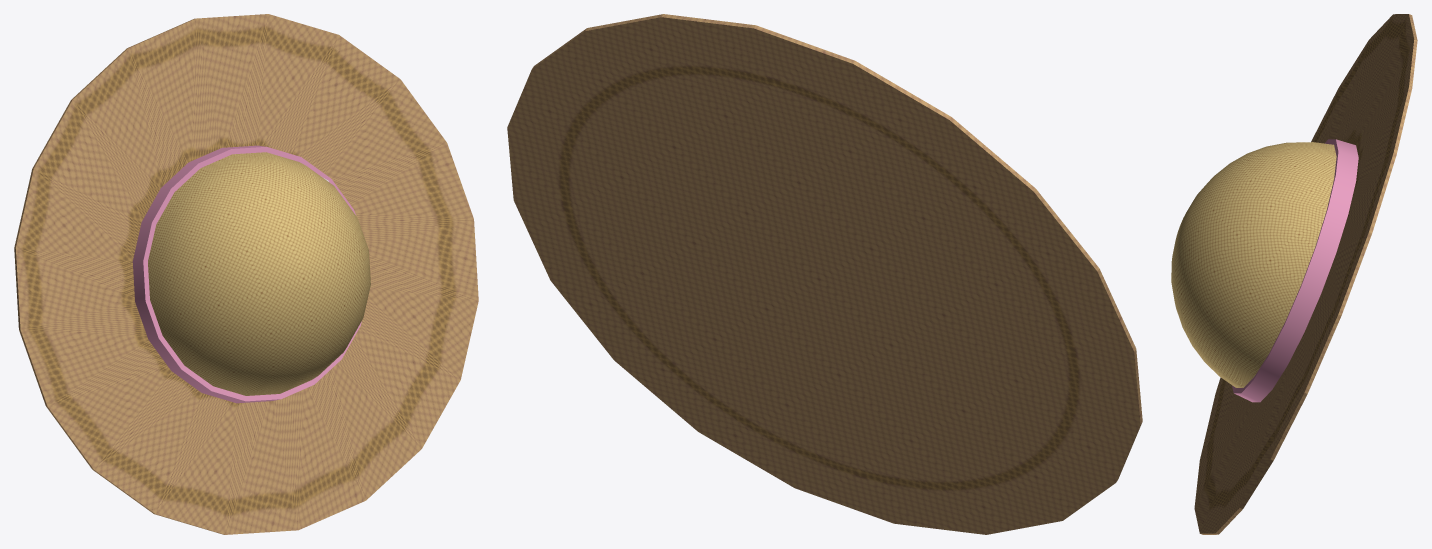
The model's file is Strawhat.fbx.
3 renders of one model, left to right at view 1: azimuth 30°, elevation 25°; view 2: azimuth 150°, elevation 25°; view 3: azimuth 270°, elevation 25°, orthographic. The views are drawn at different scales.
Parts seen in each view (by area): view 1: pSphere4; view 2: pSphere4; view 3: pSphere4.
Part boxes in pixels (x1,y1,x2,y2): pSphere4: (14, 14, 478, 534); pSphere4: (507, 14, 1142, 534); pSphere4: (1171, 14, 1417, 534).
Bounding box in the file's own units: 2.12 × 1.95 × 0.9259.
